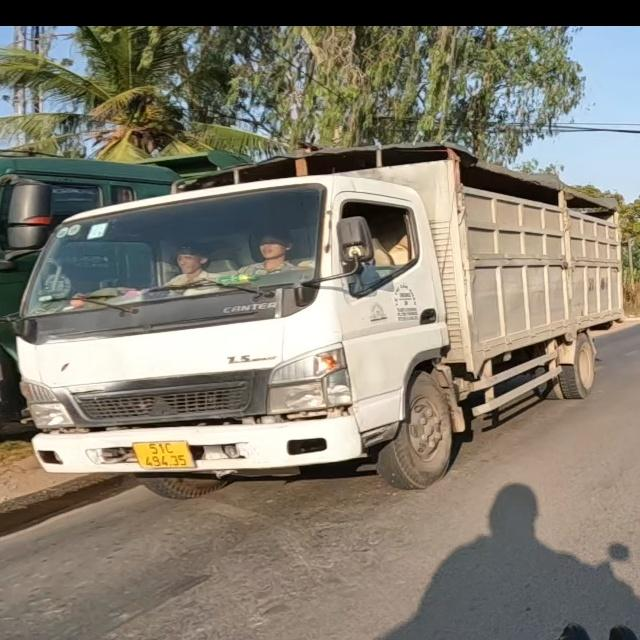license-plate: (134, 441, 194, 469)
